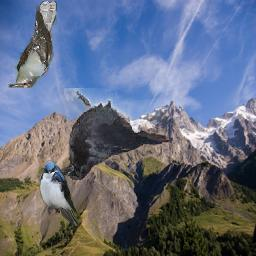Crow: (59, 88, 169, 180)
Cuckoo: (9, 2, 58, 89)
Swallow: (39, 160, 80, 227)
